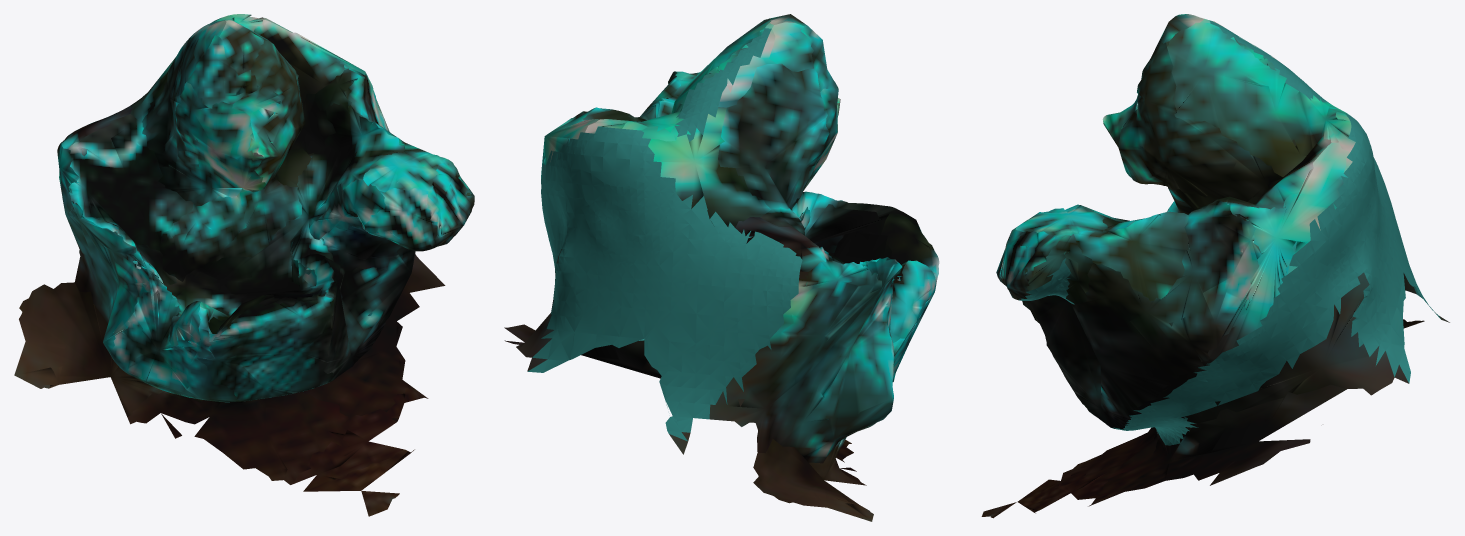
The model's file is dumpy.glb.
3 renders of one model, left to right at view 1: azimuth 30°, elevation 25°; view 2: azimuth 150°, elevation 25°; view 3: azimuth 270°, elevation 25°, orthographic. The views are drawn at different scales.
Parts seen in each view (by area): view 1: dumpy; view 2: dumpy; view 3: dumpy.
Part boxes in pixels (<box>): dumpy: <box>14,14,474,516</box>; dumpy: <box>504,14,939,521</box>; dumpy: <box>981,14,1449,518</box>.
Size of the model in its own units: 18.9 by 21.14 by 19.51.
Materials: 1 (1 with a texture image).
